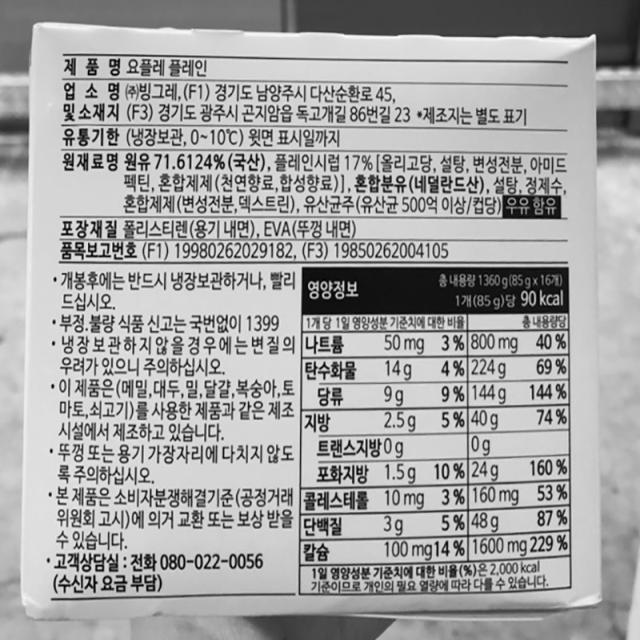Nutrition Label: (297, 259, 577, 597)
